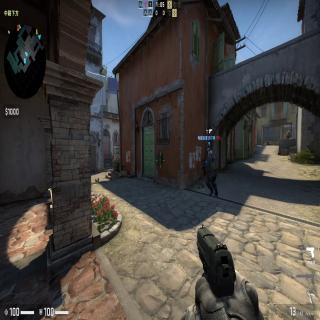CT-Body: (201, 148, 219, 196)
